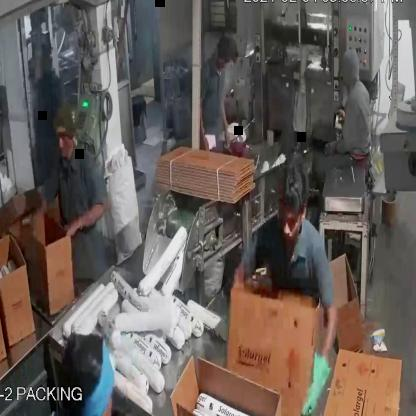glove: (301, 341, 337, 416)
no_glove: (58, 193, 112, 238), (22, 188, 64, 228), (213, 88, 232, 158), (193, 92, 210, 166), (0, 130, 8, 225)
